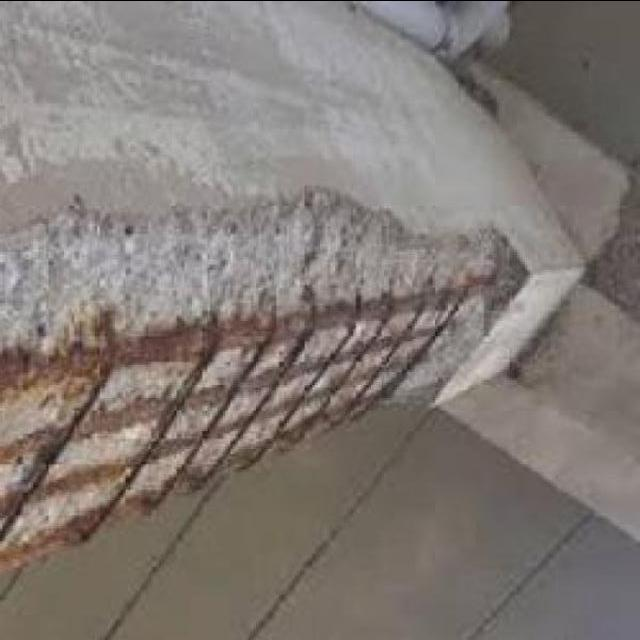corrosion: (11, 307, 472, 473)
crack: (1, 270, 483, 598), (0, 149, 402, 276), (52, 279, 486, 362), (2, 309, 274, 437), (2, 392, 179, 560), (3, 337, 112, 454), (3, 419, 87, 518), (108, 320, 226, 370), (134, 311, 207, 341)
